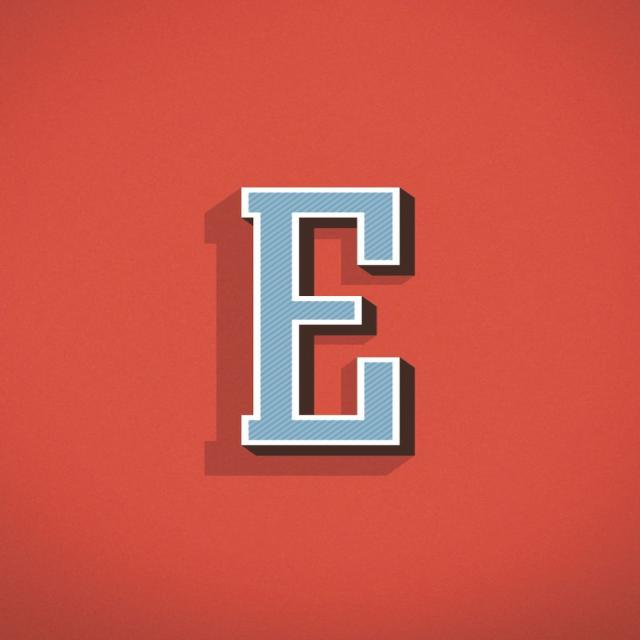E: (172, 157, 479, 527)
